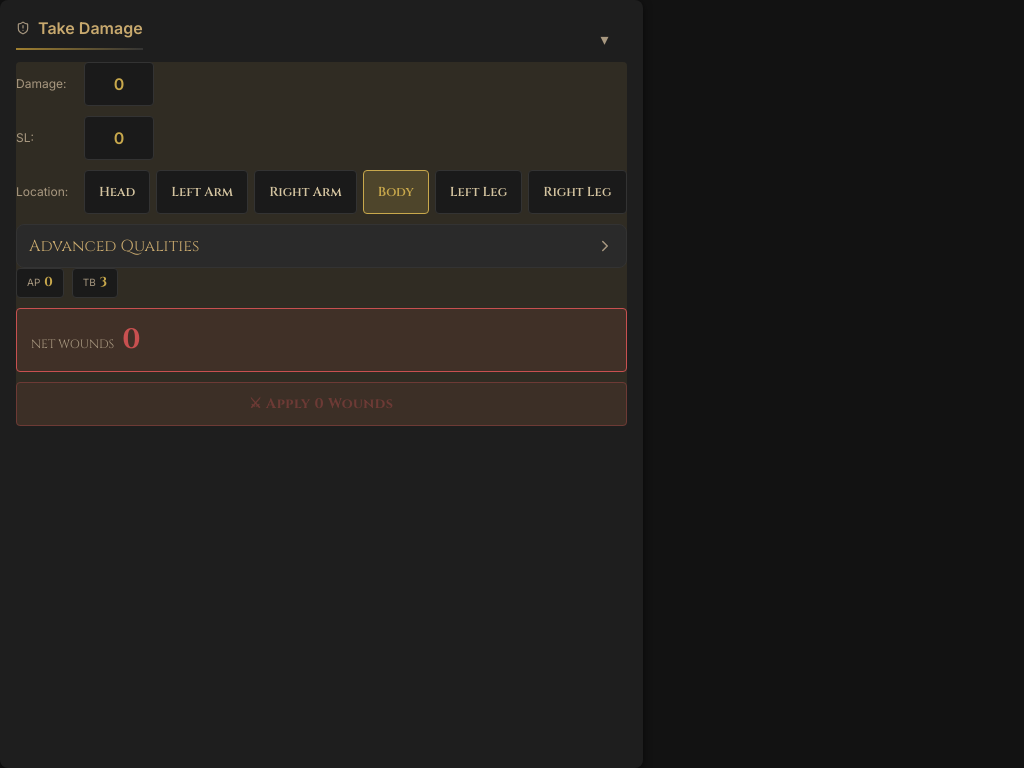
TakeDamagePanel — critical hand-off visibility (Req 8.1, 8.2) › shows the control after Apply Wounds drops the PC to ≤0
Replace the text in the number field named "Incoming damage" with "12" at (119, 84), box top-left (84, 62), bottom-right (154, 106)
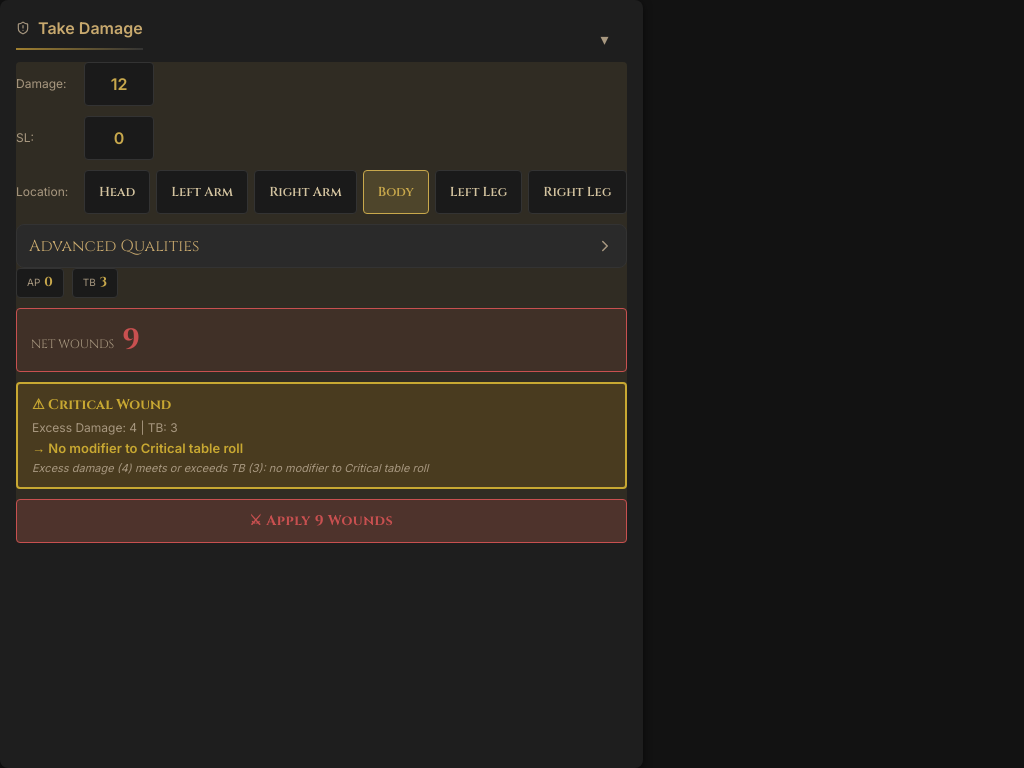
Click the button with aria-label "Apply wounds".
click(321, 520)  # box top-left (16, 498), bottom-right (626, 542)
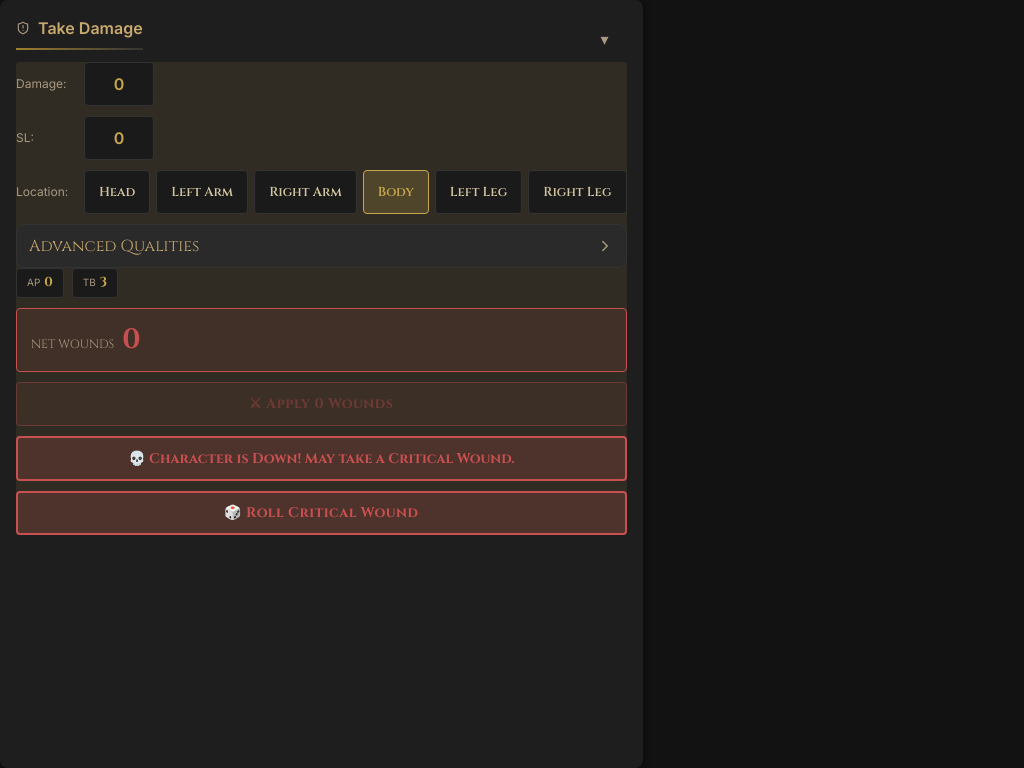
Check: the button with test id "roll-critical-btn" is shown, box top-left (16, 490), bottom-right (626, 534)
